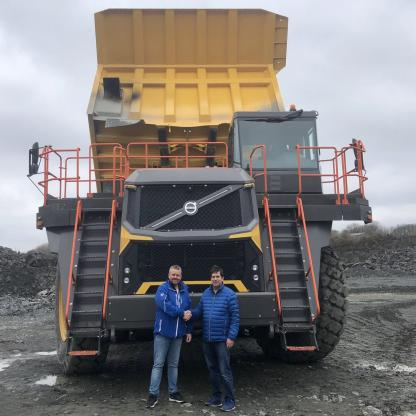dump_truck: (31, 1, 370, 379)
person: (197, 259, 245, 407), (148, 257, 193, 409)
